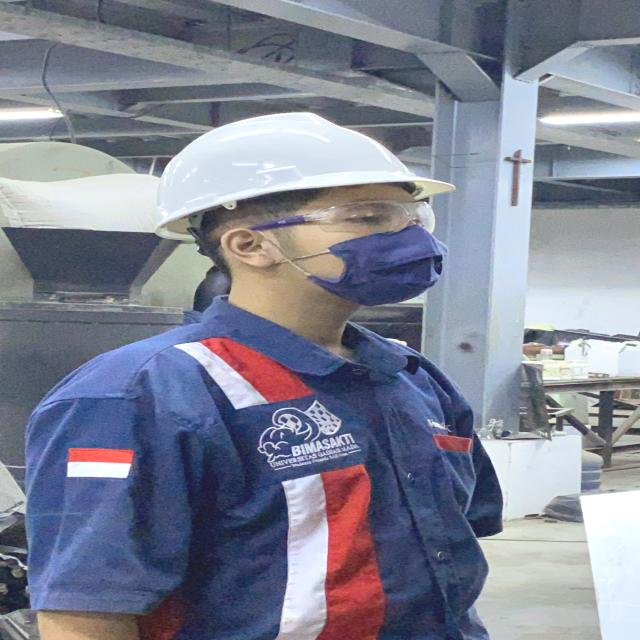face_mask: (301, 196, 459, 298)
glasses: (244, 197, 441, 237)
head_helmet: (142, 108, 459, 221)
person: (24, 112, 541, 640)
